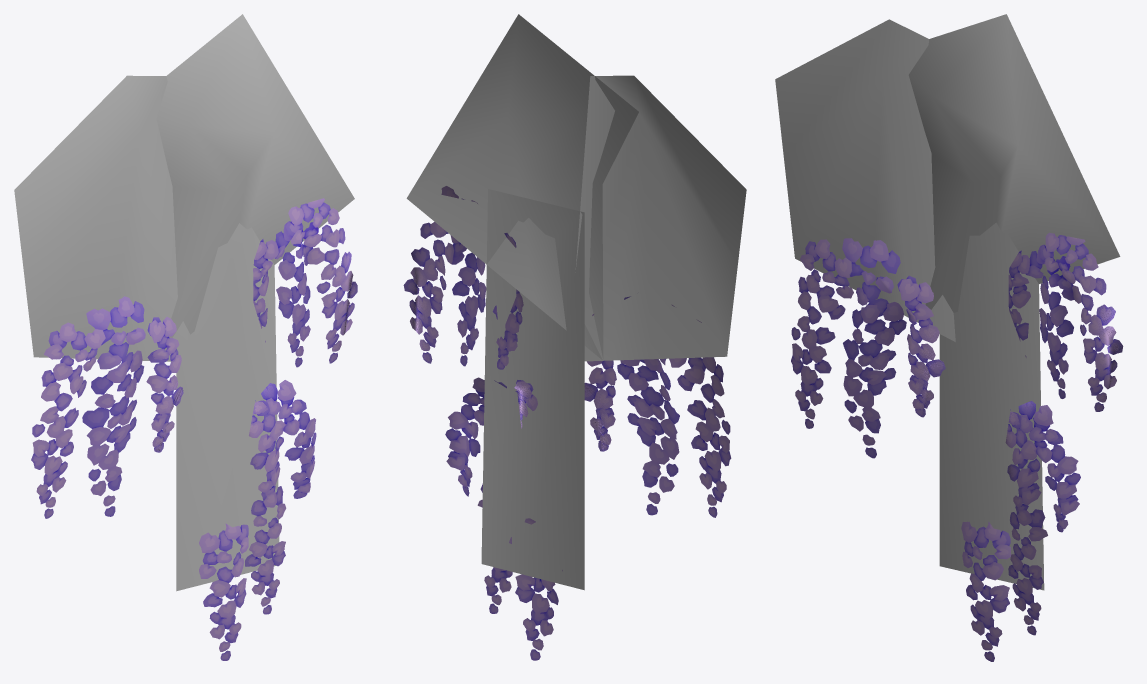
Rendered from SM_Env_Vines_Preset_Wall_03.fbx.
3 views of the same model, side by side, from view 1: azimuth 30°, elevation 25°; view 2: azimuth 150°, elevation 25°; view 3: azimuth 330°, elevation 25° (orthographic).
Visible parts, largest first — view 1: SM_Env_Vines_Preset_Wall_03; view 2: SM_Env_Vines_Preset_Wall_03; view 3: SM_Env_Vines_Preset_Wall_03.
Part boxes in pixels (<box>): SM_Env_Vines_Preset_Wall_03: <box>14,14,357,660</box>; SM_Env_Vines_Preset_Wall_03: <box>403,14,746,660</box>; SM_Env_Vines_Preset_Wall_03: <box>775,14,1123,661</box>.
Bounding box in the file's own units: 175 × 307 × 9.43.
